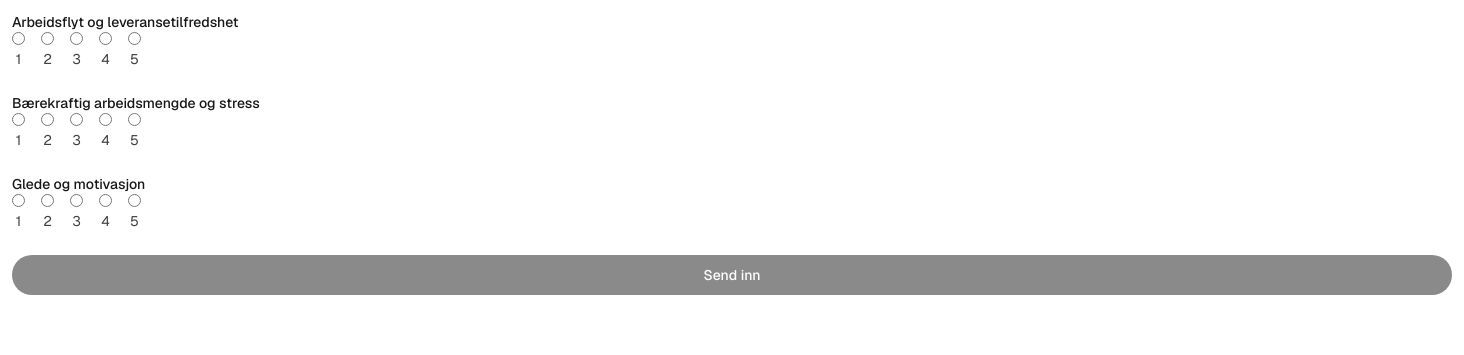
Test: SurveyResponseForm › shows a generic Norwegian error via role=alert and does not claim success when submission fails
Click the radio button labelled "1" below "Arbeidsflyt og leveransetilfredshet": [18, 38] box [12,32,25,45]
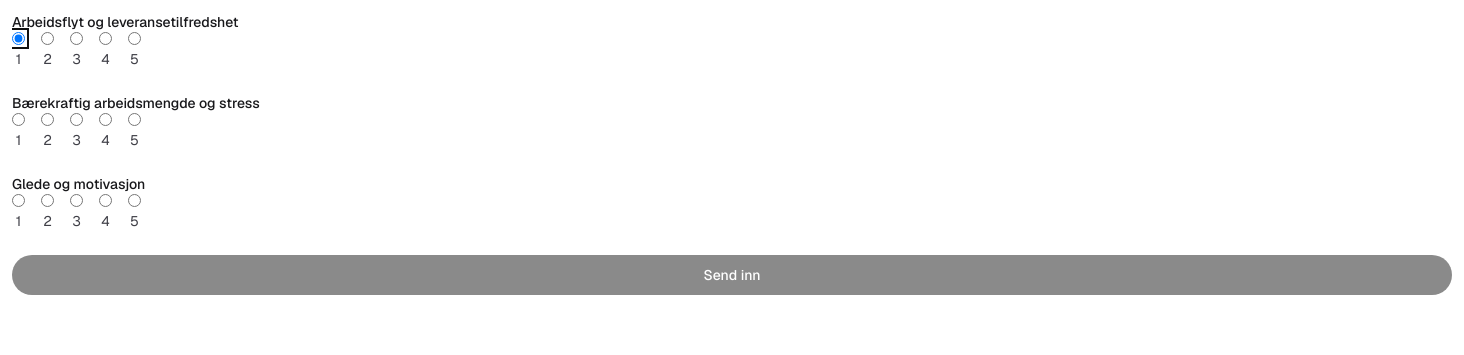
Click the radio button labelled "2" below "Bærekraftig arbeidsmengde og stress": [48, 120] box [41,113,54,126]
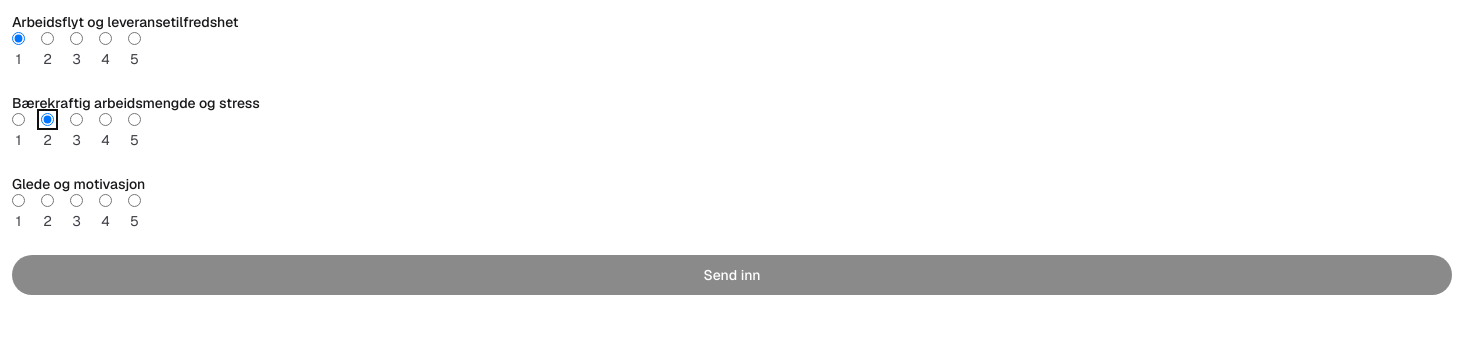
Click the radio button labelled "3" below "Glede og motivasjon": [76, 200] box [70,194,83,207]
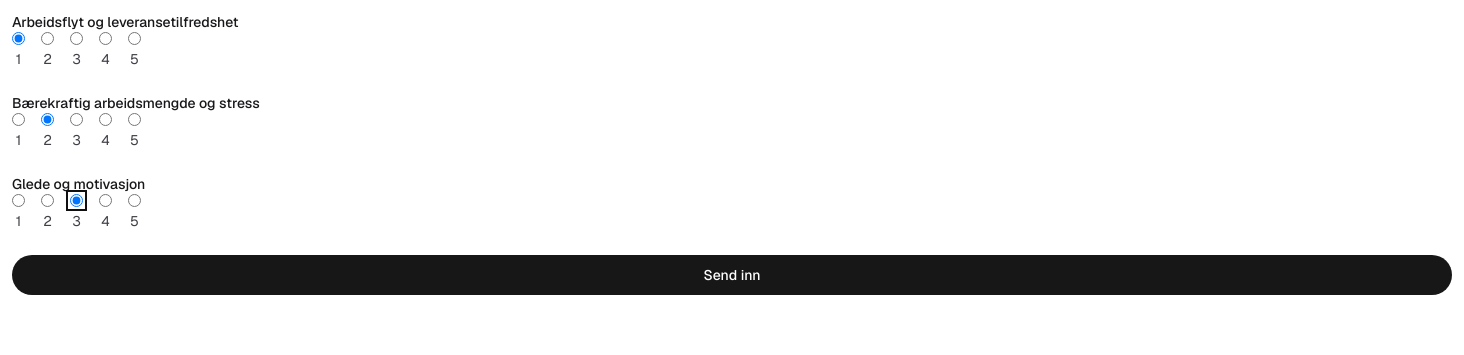
Click the button "Send inn": [732, 275] box [12,255,1452,295]
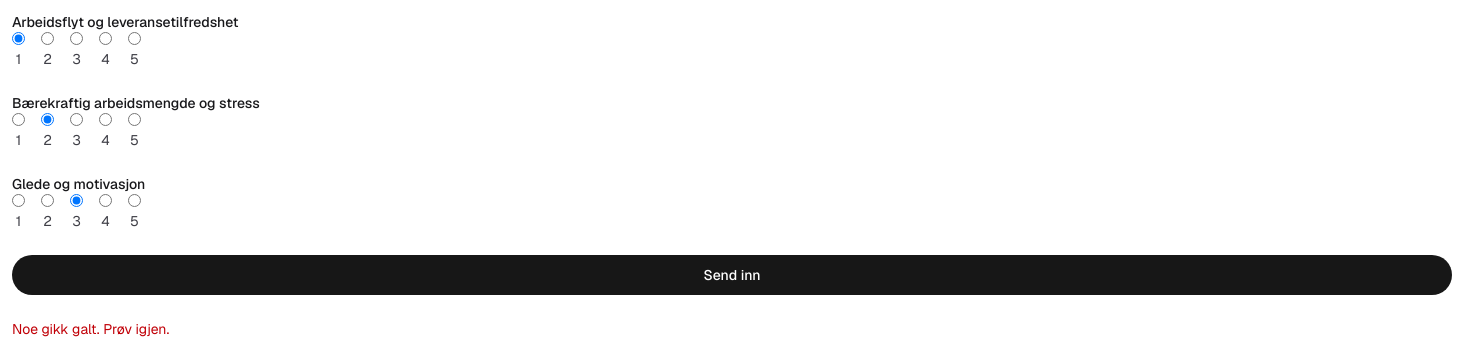
Now the message shows "Noe gikk galt", box [12,320,169,338]
